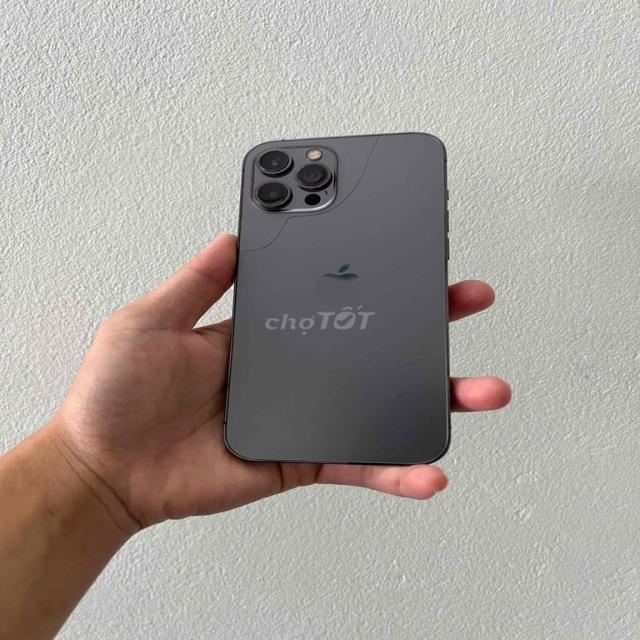gen_12_13: (219, 132, 453, 466)
physical_damage: (242, 133, 409, 260)
